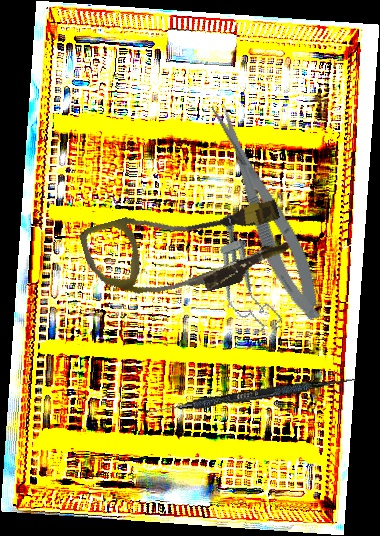Cannula: (77, 176, 295, 322)
Micro Scissor: (202, 95, 332, 328)
Spatula Surgical: (137, 370, 357, 422)
Speculum: (199, 210, 285, 342)
